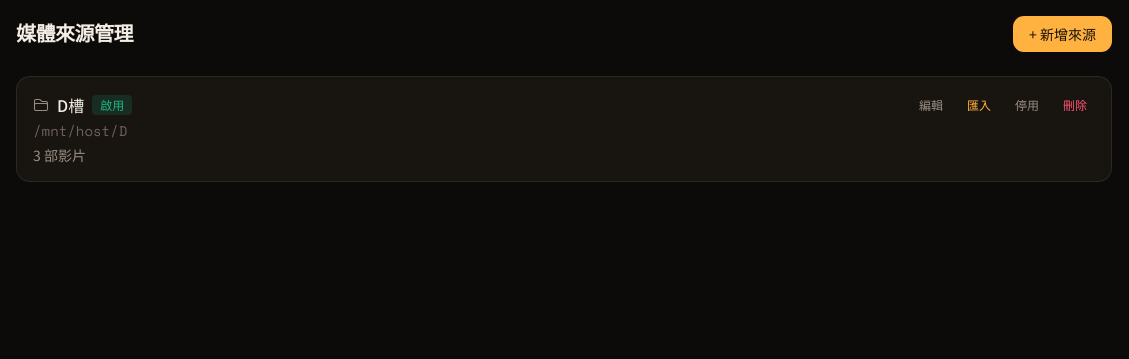
MediaSourcePage (reskin) › does not repeat its own running Import above the list
Click the button "匯入".
click(979, 105)  # box [959,93,999,117]
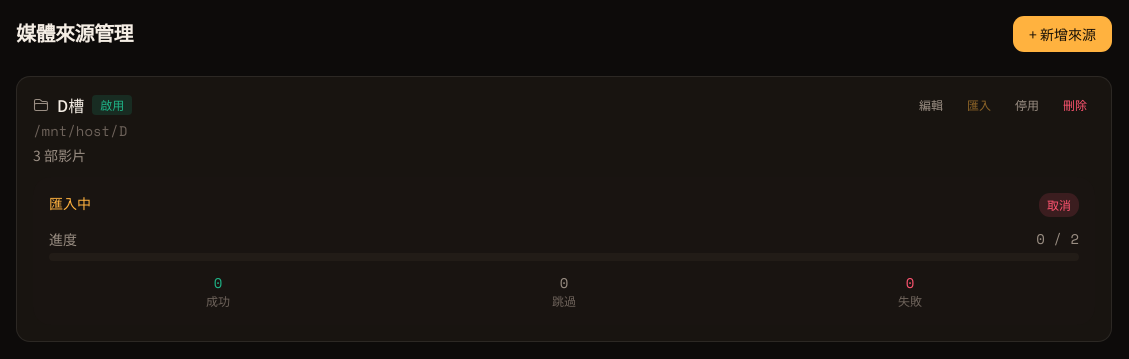
Now the text "匯入中" is shown, box [49,193,91,213]
